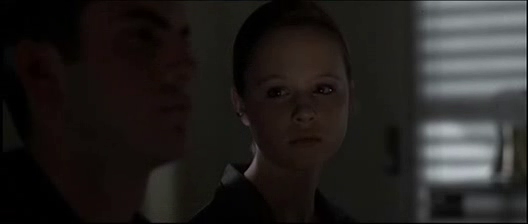cu: (1, 1, 528, 224)
face: (255, 49, 348, 173)
person: (179, 1, 366, 224)
